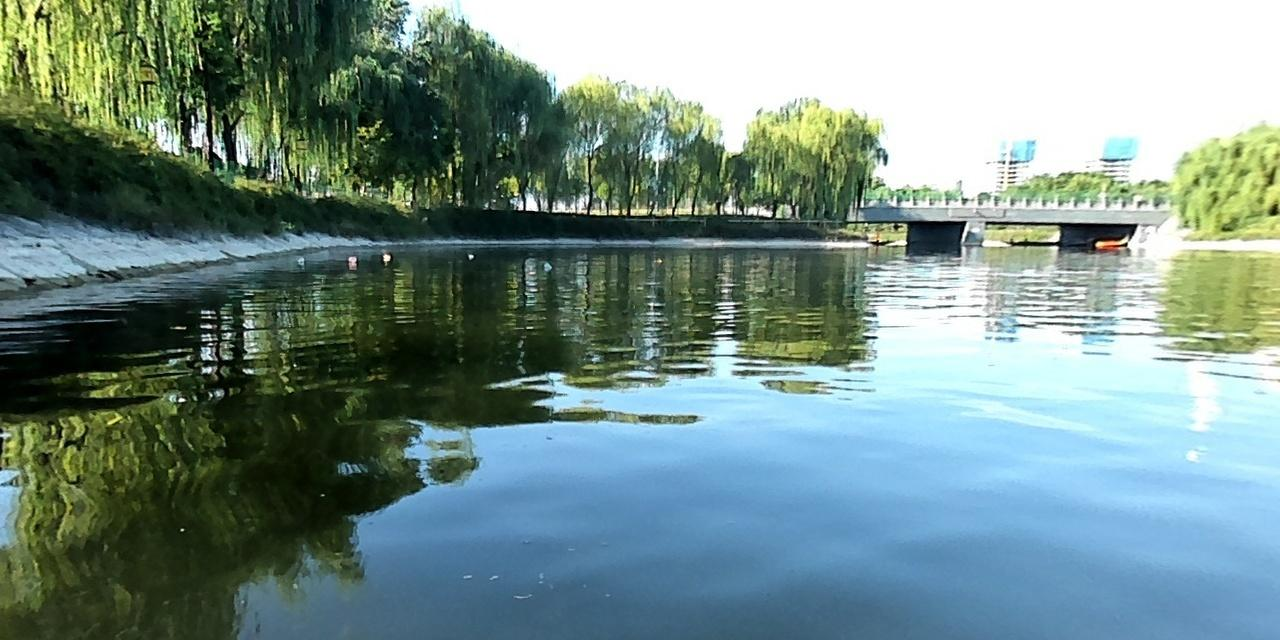bottle: (380, 249, 392, 261), (540, 258, 551, 270), (345, 251, 358, 261)
